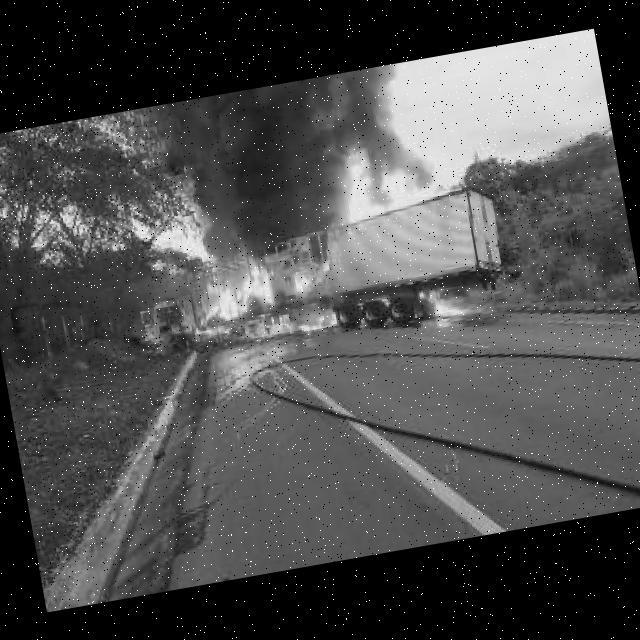Fire: (334, 142, 421, 222), (195, 266, 280, 325), (267, 306, 335, 337), (425, 287, 465, 319), (292, 269, 315, 292), (320, 257, 332, 273), (194, 327, 213, 336)
Smoke: (149, 74, 361, 258), (332, 57, 442, 149), (367, 134, 449, 179)
